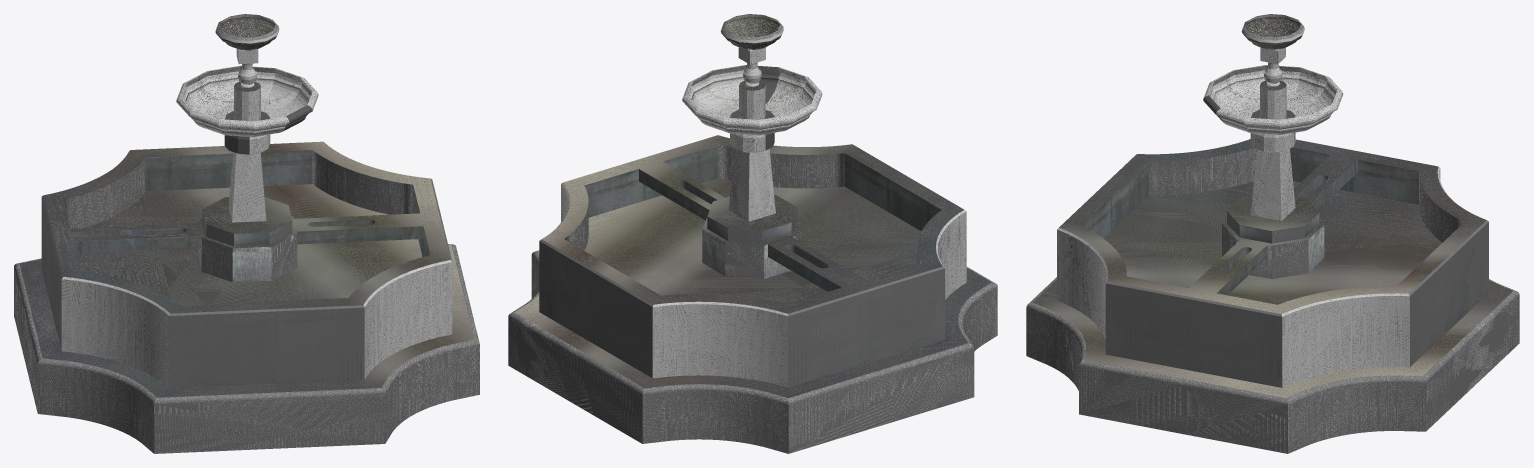
Rendered from fountain.dae.
The picture shows the model from 3 angles, left to right: view 1: azimuth 30°, elevation 25°; view 2: azimuth 150°, elevation 25°; view 3: azimuth 270°, elevation 25°; orthographic projection.
Visible parts, largest first — view 1: vasca_grande (×8), pezzo_3 (×4), vasca (×2), primo_fontana, fontana_P._dei_Gesuiti; view 2: vasca_grande (×8), pezzo_3 (×4), vasca (×4), primo_fontana, fontana_P._dei_Gesuiti; view 3: vasca_grande (×8), pezzo_3 (×4), vasca (×3), primo_fontana, fontana_P._dei_Gesuiti.
Boxes of the visible parts, bbox=[...] form: vasca_grande (×8): bbox=[14, 141, 479, 453]; pezzo_3 (×4): bbox=[197, 152, 297, 282]; vasca (×2): bbox=[176, 65, 318, 136]; primo_fontana: bbox=[215, 16, 278, 50]; fontana_P._dei_Gesuiti: bbox=[234, 86, 260, 121]; vasca_grande (×8): bbox=[508, 135, 997, 453]; pezzo_3 (×4): bbox=[702, 149, 801, 278]; vasca (×4): bbox=[682, 65, 822, 152]; primo_fontana: bbox=[721, 16, 783, 49]; fontana_P._dei_Gesuiti: bbox=[739, 85, 765, 119]; vasca_grande (×8): bbox=[1026, 139, 1519, 453]; pezzo_3 (×4): bbox=[1222, 149, 1324, 279]; vasca (×3): bbox=[1204, 65, 1343, 152]; primo_fontana: bbox=[1242, 16, 1304, 49]; fontana_P._dei_Gesuiti: bbox=[1260, 85, 1286, 119].
Size of the model in its own units: 210 by 210 by 153.
